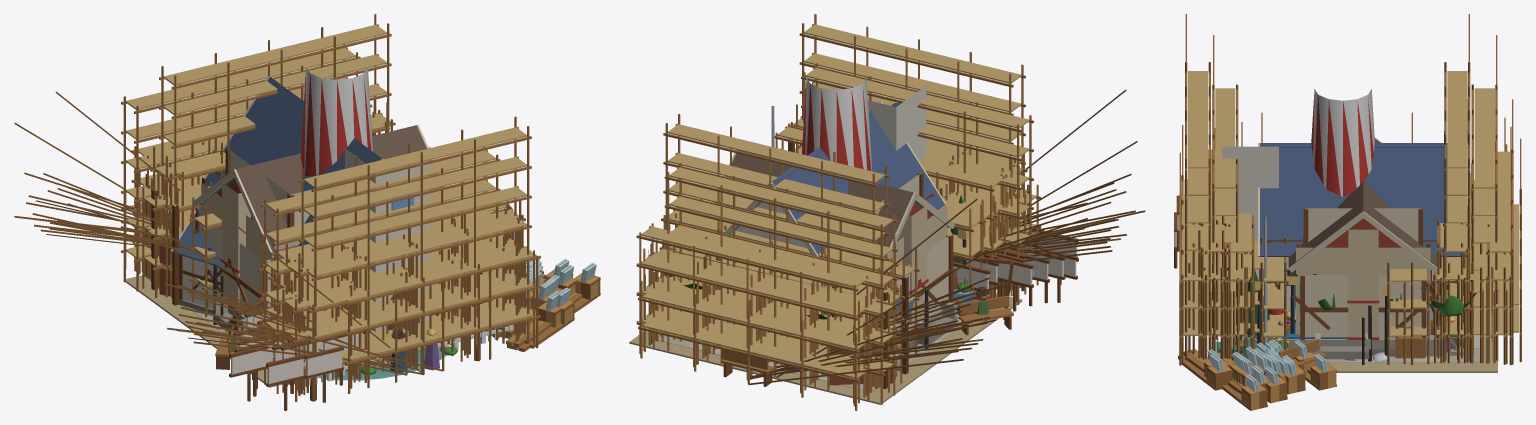
File: construction.glb
3 renders of one model, left to right at view 1: azimuth 30°, elevation 25°; view 2: azimuth 150°, elevation 25°; view 3: azimuth 270°, elevation 25°, orthographic. The views are drawn at different scales.
Parts seen in each view (by area): view 1: town-construction-chapel, town-construction-lighthouse, town-construction-schoolhouse, town-construction-boathouse, town-construction-watermill, town-construction-music_hall, town-construction-harbour_inn, town-construction-library, town-construction-bandstand, town-construction-festival_arch, town-construction-tea_room, town-construction-millpond_bridge (+10 smaller); view 2: town-construction-chapel, town-construction-lighthouse, town-construction-bandstand, town-construction-skating_pond, town-construction-clock_square, town-construction-schoolhouse, town-construction-millpond_bridge, town-construction-festival_arch, town-construction-music_hall, town-construction-village_green, town-construction-watermill, town-construction-flower_market (+10 smaller); view 3: town-construction-chapel, town-construction-lighthouse, town-construction-festival_arch, town-construction-craft_hall, town-construction-bandstand, town-construction-schoolhouse, town-construction-music_hall, town-construction-harbour_inn, town-construction-millpond_bridge, town-construction-clock_square, town-construction-village_green, town-construction-boathouse (+10 smaller).
Part boxes in pixels (<box>): town-construction-chapel: <box>55,14,561,402</box>; town-construction-lighthouse: <box>14,44,500,393</box>; town-construction-schoolhouse: <box>43,96,577,396</box>; town-construction-boathouse: <box>120,226,554,393</box>; town-construction-watermill: <box>32,176,574,410</box>; town-construction-music_hall: <box>58,111,532,393</box>; town-construction-harbour_inn: <box>67,112,535,401</box>; town-construction-library: <box>47,109,541,393</box>; town-construction-bandstand: <box>24,104,600,401</box>; town-construction-festival_arch: <box>82,147,514,329</box>; town-construction-tea_room: <box>53,195,556,401</box>; town-construction-millpond_bridge: <box>40,204,563,394</box>; town-construction-chapel: <box>633,14,1126,403</box>; town-construction-lighthouse: <box>630,63,1137,404</box>; town-construction-bandstand: <box>636,123,1111,406</box>; town-construction-skating_pond: <box>638,224,1112,410</box>; town-construction-clock_square: <box>641,139,1115,403</box>; town-construction-schoolhouse: <box>664,104,1131,388</box>; town-construction-millpond_bridge: <box>630,218,1126,404</box>; town-construction-festival_arch: <box>700,199,1090,353</box>; town-construction-music_hall: <box>669,122,1116,386</box>; town-construction-village_green: <box>629,212,1111,404</box>; town-construction-watermill: <box>673,183,1145,392</box>; town-construction-flower_market: <box>646,220,1110,400</box>; town-construction-chapel: <box>1174,14,1470,377</box>; town-construction-lighthouse: <box>1212,35,1497,353</box>; town-construction-festival_arch: <box>1260,112,1413,390</box>; town-construction-craft_hall: <box>1213,128,1481,372</box>; town-construction-bandstand: <box>1222,99,1513,410</box>; town-construction-schoolhouse: <box>1198,131,1469,388</box>; town-construction-music_hall: <box>1200,154,1467,355</box>; town-construction-harbour_inn: <box>1192,208,1463,366</box>; town-construction-millpond_bridge: <box>1198,279,1497,386</box>; town-construction-clock_square: <box>1220,117,1505,374</box>; town-construction-village_green: <box>1226,126,1511,403</box>; town-construction-boathouse: <box>1179,152,1429,382</box>.
Bounding box in the file's own units: 14.38 × 8.2 × 10.32.
